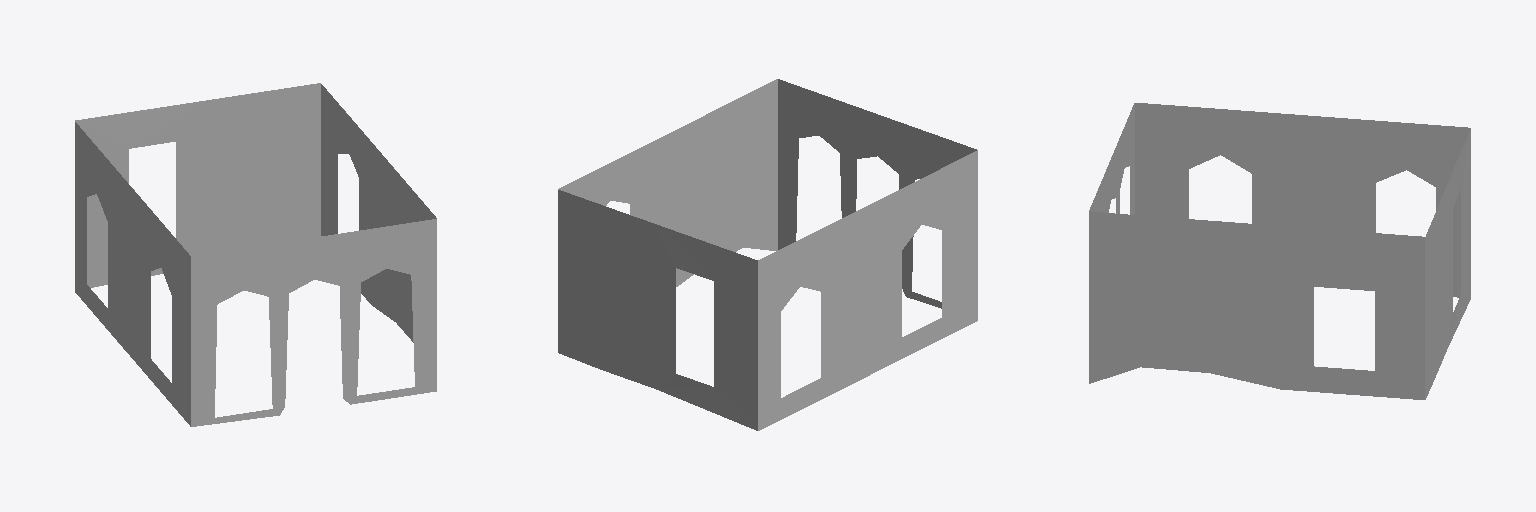
The model's file is venice_30.obj.
3 views of the same model, side by side, from view 1: azimuth 30°, elevation 25°; view 2: azimuth 150°, elevation 25°; view 3: azimuth 270°, elevation 25° (orthographic).
Bounding box in the file's own units: 5.37 × 3.22 × 6.46.